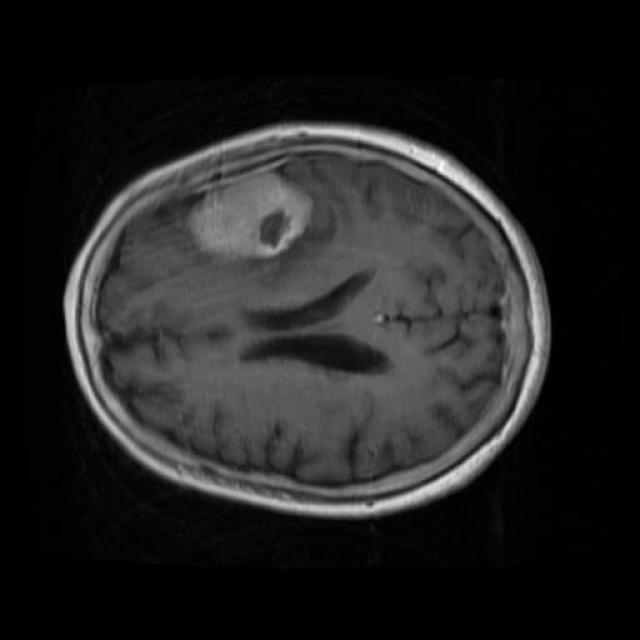Meningioma: (186, 172, 313, 258)
